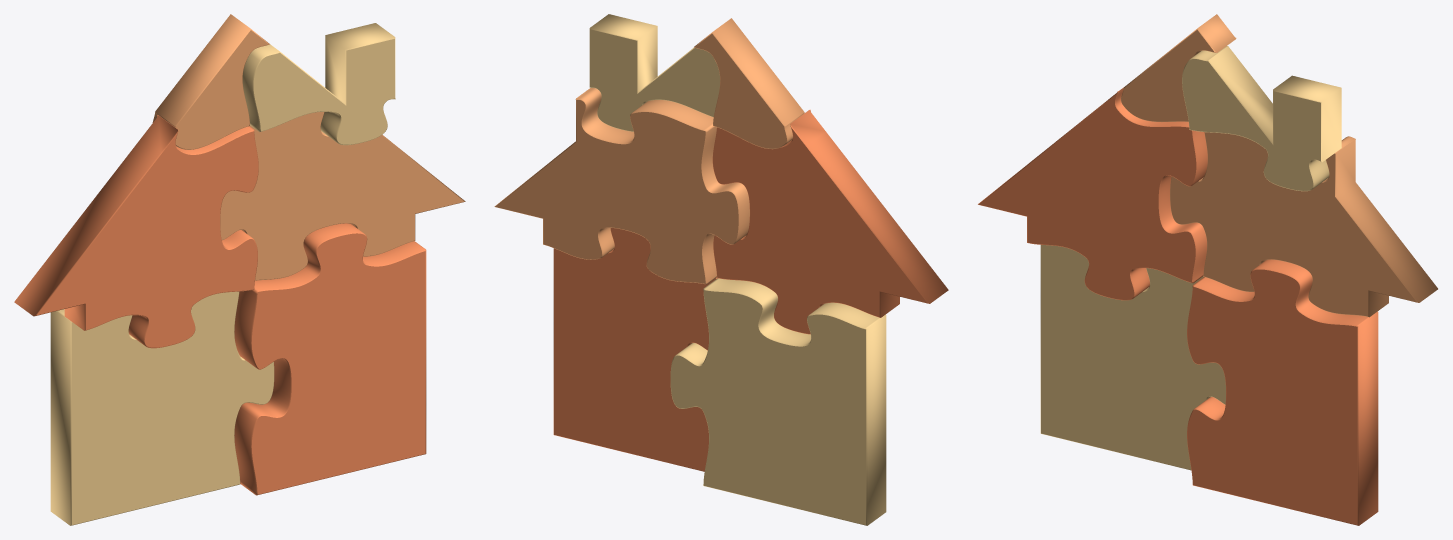
The model's file is house puzzle.fbx.
3 views of the same model, side by side, from view 1: azimuth 30°, elevation 25°; view 2: azimuth 150°, elevation 25°; view 3: azimuth 330°, elevation 25° (orthographic). The views are drawn at different scales.
Parts seen in each view (by area): view 1: puzzle bottom right, puzzle bottom left, puzzle middle left, puzzle middle right, puzzle top right, puzzle top left; view 2: puzzle bottom left, puzzle middle left, puzzle bottom right, puzzle middle right, puzzle top right, puzzle top left; view 3: puzzle bottom right, puzzle bottom left, puzzle middle left, puzzle middle right, puzzle top right, puzzle top left.
Part boxes in pixels (x1,y1,x2,y2): puzzle bottom right: [234, 223, 426, 495]; puzzle bottom left: [50, 291, 274, 525]; puzzle middle left: [14, 115, 258, 348]; puzzle middle right: [220, 112, 465, 280]; puzzle top right: [242, 23, 395, 145]; puzzle top left: [152, 14, 269, 149]; puzzle bottom left: [670, 278, 886, 525]; puzzle middle left: [712, 109, 948, 334]; puzzle bottom right: [553, 228, 717, 471]; puzzle middle right: [494, 88, 749, 284]; puzzle top right: [589, 14, 720, 131]; puzzle top left: [694, 18, 804, 149]; puzzle bottom right: [1187, 259, 1378, 525]; puzzle bottom left: [1040, 245, 1225, 470]; puzzle middle left: [978, 87, 1207, 300]; puzzle middle right: [1170, 132, 1437, 317]; puzzle top right: [1182, 46, 1341, 191]; puzzle top left: [1121, 14, 1236, 122].
Size of what is drawn, in the model's own units: 259 by 260 by 39.98.
